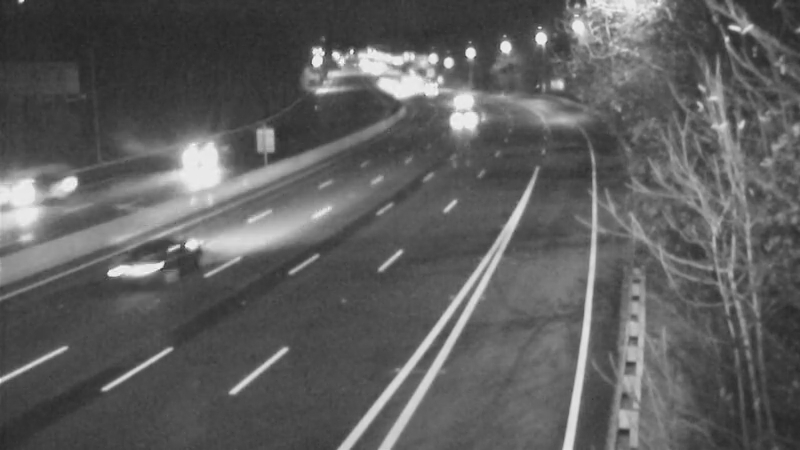vehicle: (101, 225, 181, 305), (152, 121, 232, 201), (1, 151, 78, 231), (408, 65, 458, 115), (434, 74, 484, 124), (432, 94, 482, 144)
